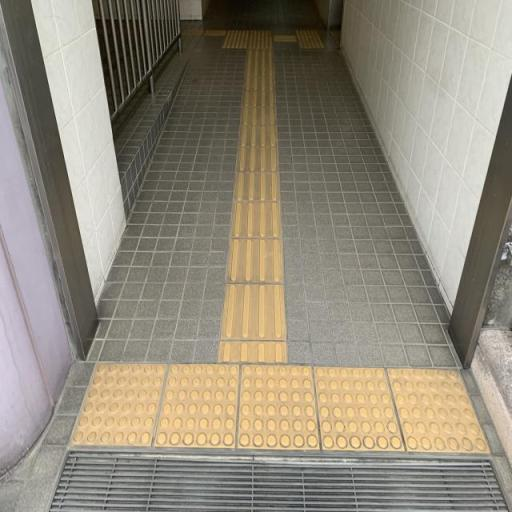dot: (388, 368, 490, 453), (68, 362, 167, 447), (313, 366, 406, 451), (153, 363, 239, 447), (238, 366, 319, 449)
line: (221, 284, 286, 340), (226, 240, 284, 283), (229, 201, 283, 239), (234, 171, 281, 202), (236, 146, 278, 172), (239, 125, 278, 148), (240, 107, 276, 125)
